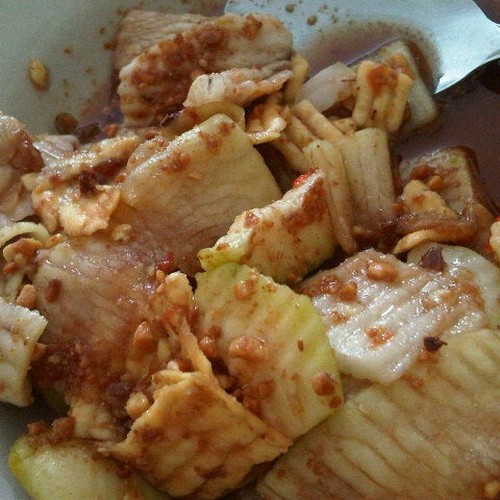rujak buleleng: (30, 62, 446, 489)
